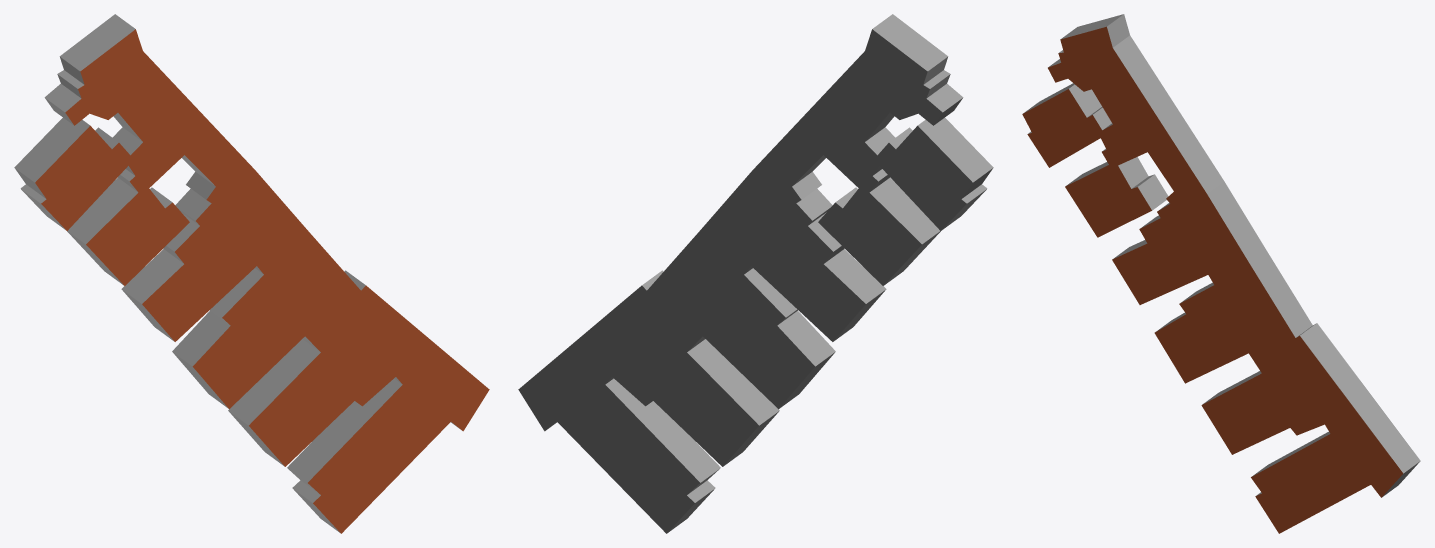
Rendered from construction_4459_assumed_A_Casa_h6m.obj.
3 renders of one model, left to right at view 1: azimuth 30°, elevation 25°; view 2: azimuth 150°, elevation 25°; view 3: azimuth 330°, elevation 25°, orthographic. The views are drawn at different scales.
Parts seen in each view (by area): view 1: construction_4459_assumed_A_Casa; view 2: construction_4459_assumed_A_Casa; view 3: construction_4459_assumed_A_Casa.
Part boxes in pixels (x1,y1,x2,y2): construction_4459_assumed_A_Casa: (14, 14, 489, 533); construction_4459_assumed_A_Casa: (518, 14, 993, 533); construction_4459_assumed_A_Casa: (1022, 14, 1420, 533).
Bounding box in the file's own units: 76.24 × 88.92 × 6.
